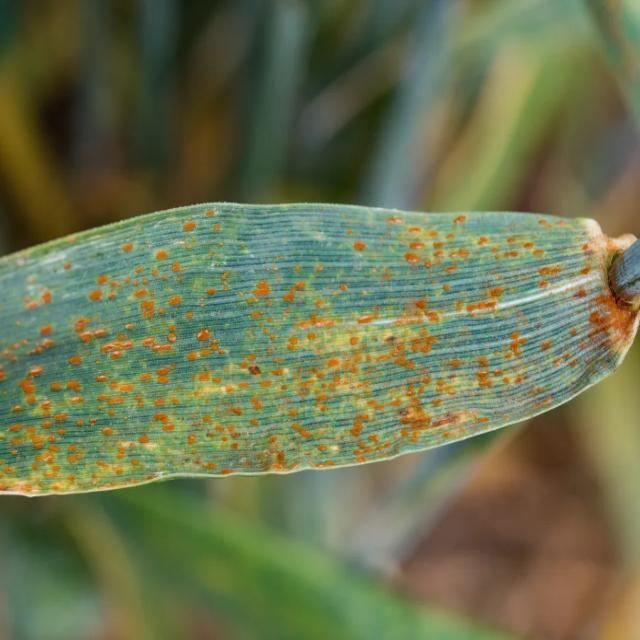leaf_rust: (0, 203, 639, 494)
